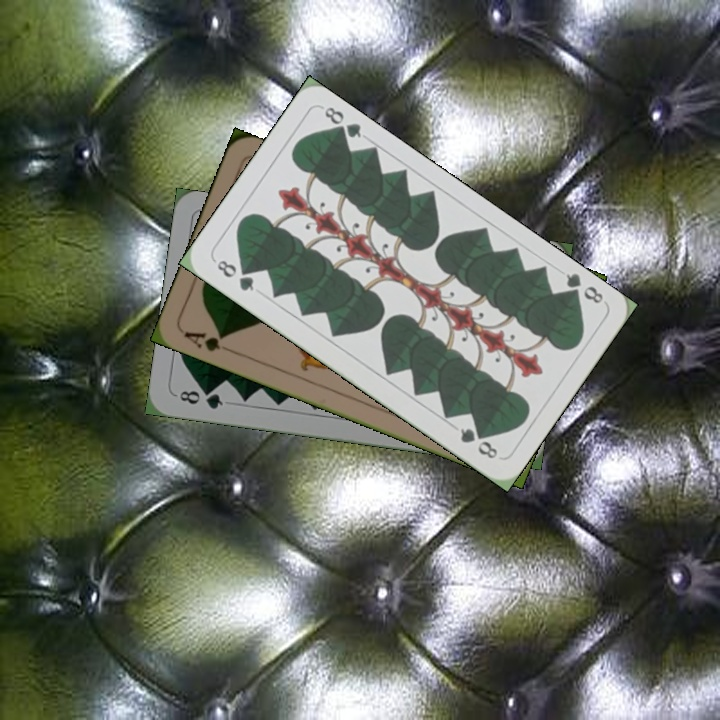G8: (210, 255, 257, 294), (560, 269, 606, 307), (172, 386, 226, 412)
GA: (180, 327, 228, 354)
